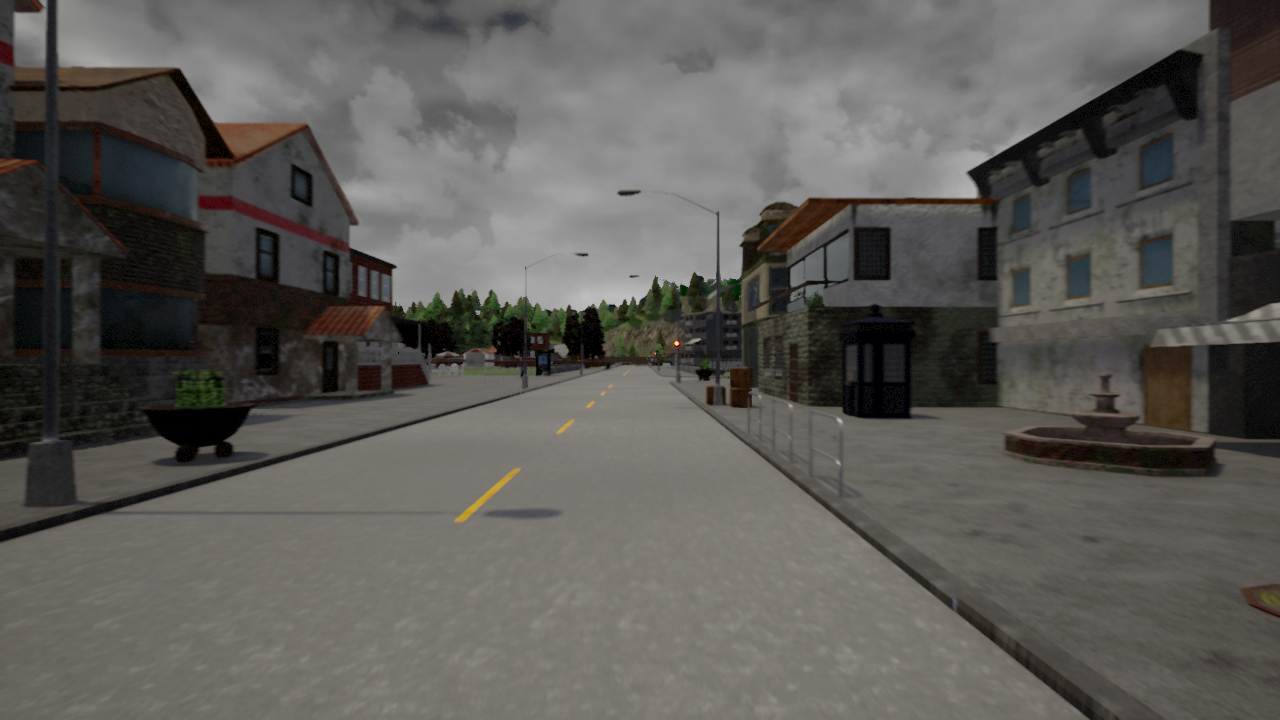red: (674, 340, 680, 355)
